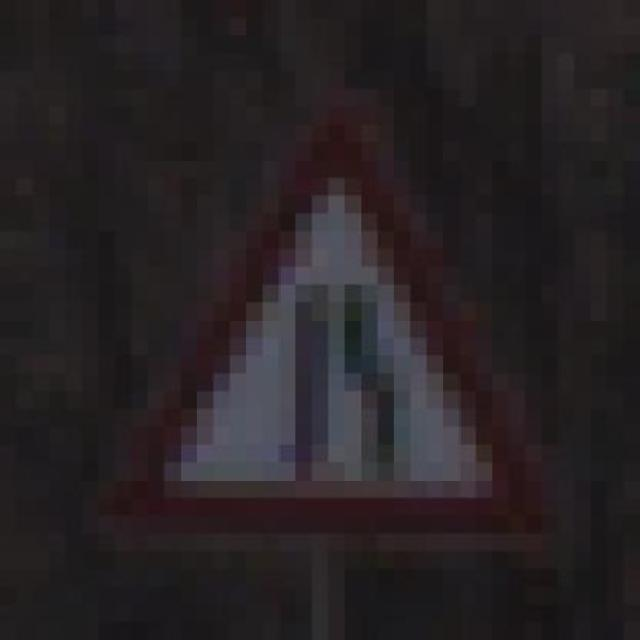-Road narrows on right: (99, 71, 558, 551)
